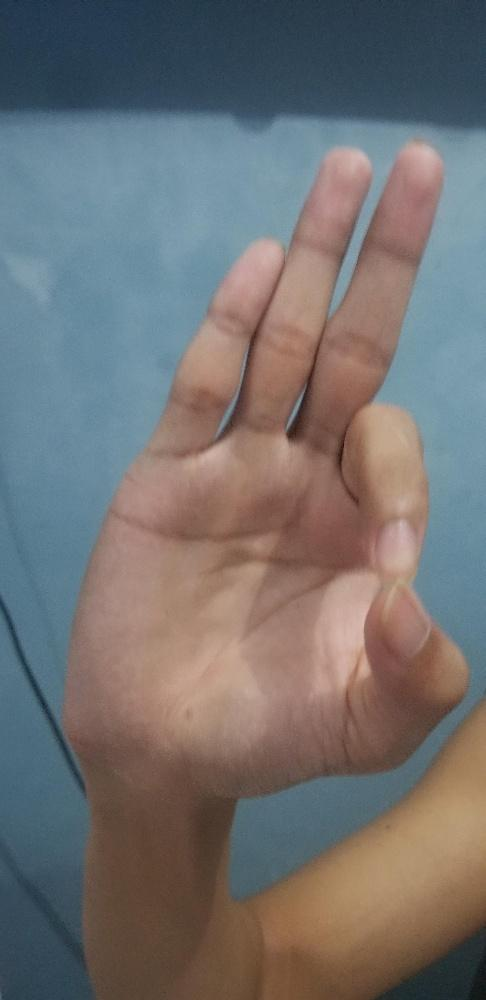f: (55, 131, 473, 808)
